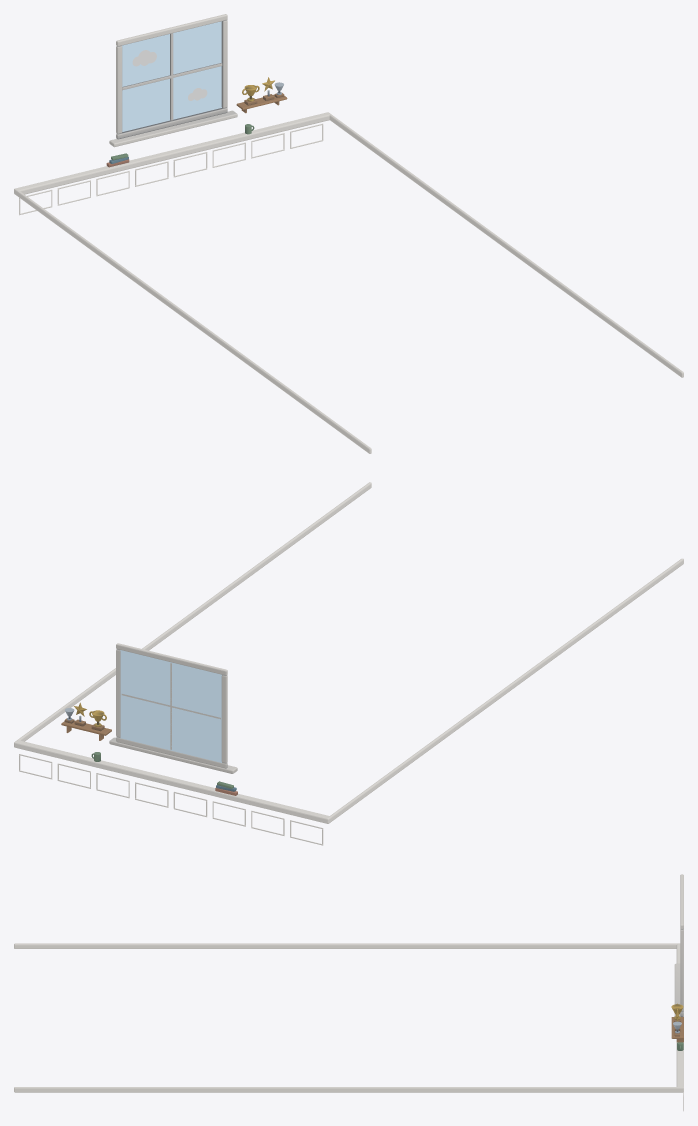
Rendered from study_props.glb.
3 views of the same model, one above another, from view 1: azimuth 30°, elevation 25°; view 2: azimuth 150°, elevation 25°; view 3: azimuth 270°, elevation 25° (orthographic). The views are drawn at different scales.
Visible parts, largest first — view 1: room_static, window_glass; view 2: room_static, window_glass; view 3: room_static.
Part boxes in pixels (<box>): room_static: <box>14,14,683,453</box>; window_glass: <box>122,21,221,131</box>; room_static: <box>14,482,683,845</box>; window_glass: <box>120,650,221,762</box>; room_static: <box>14,874,683,1111</box>.
Size of the model in its own units: 9.4 by 4.31 by 18.4.
